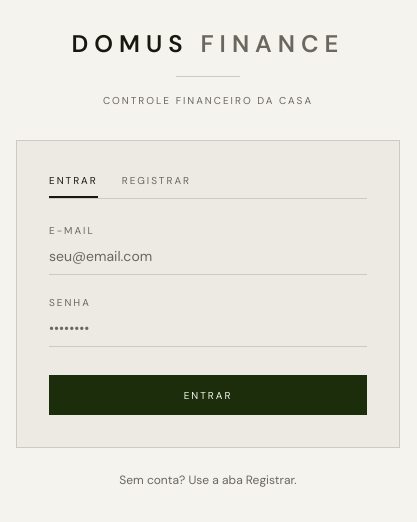
autenticação › mostra mensagem genérica quando a credencial é recusada
The image size is (417, 522).
Type "teste@exemplo.com" into the field labelled "E-mail" at (208, 256), box 49,238 -> 367,275
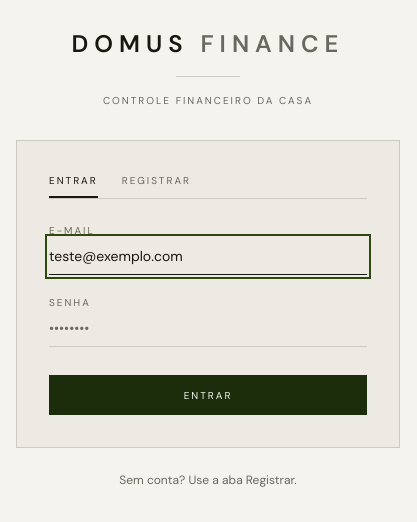
Type "senha-errada" into the password field labelled "Senha" at (208, 328), box 49,310 -> 367,347
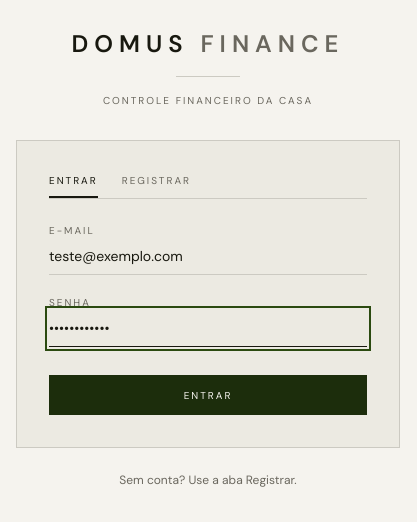
Click the button "Entrar" at (208, 395), box 49,375 -> 367,415
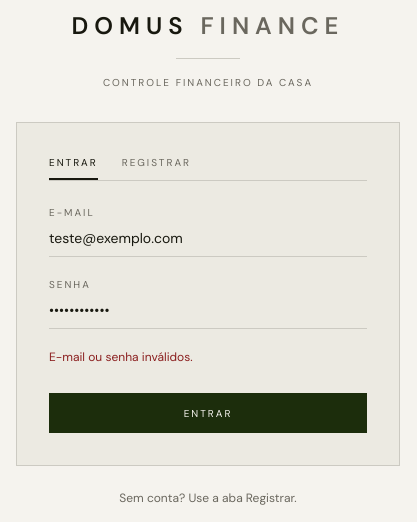
Check: the message reads "E-mail ou senha inválidos.", box 49,349 -> 193,365
